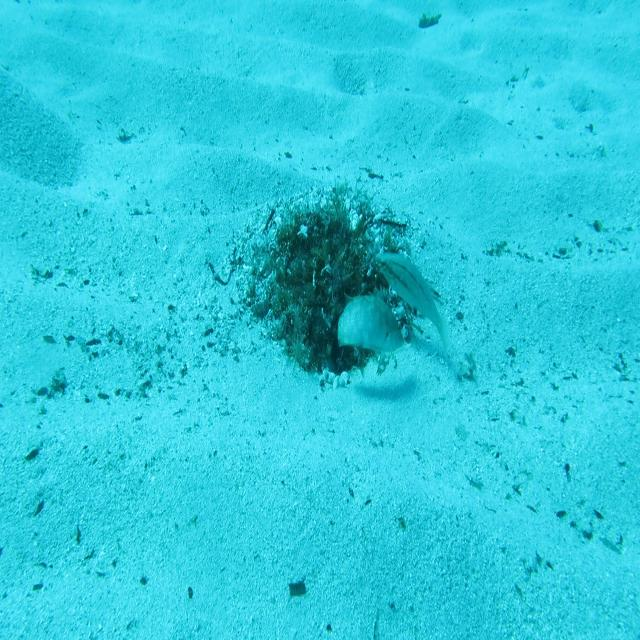DAN_CIRC: (336, 283, 405, 359)
core_nest: (306, 220, 350, 267)
female: (374, 247, 452, 355)
nest: (226, 181, 436, 408)
vegetation: (285, 580, 309, 598), (418, 12, 439, 28)
